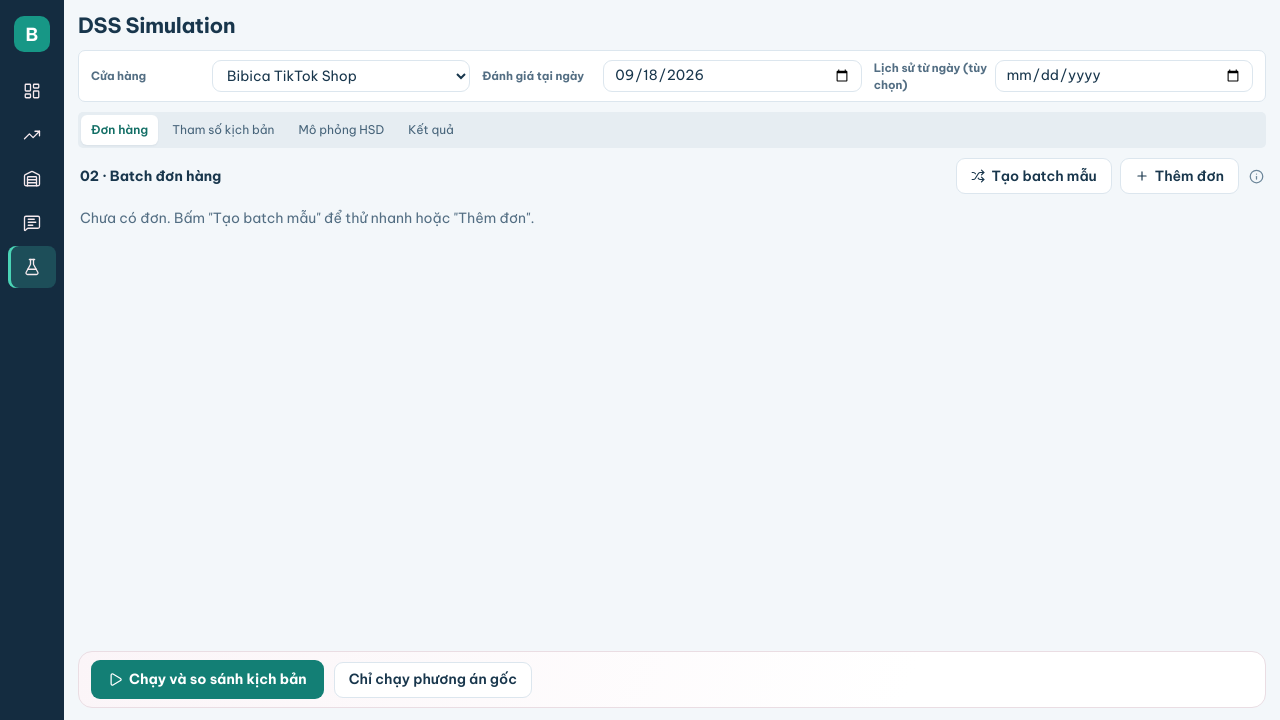
Scenario: các trang dựng được với dữ liệu theo hợp đồng API › DSS: hiển thị detail lỗi 422 do API trả về
The image size is (1280, 720).
Click the button "Tạo batch mẫu". click: (1034, 176)
box: x1=956 y1=158 x2=1112 y2=194
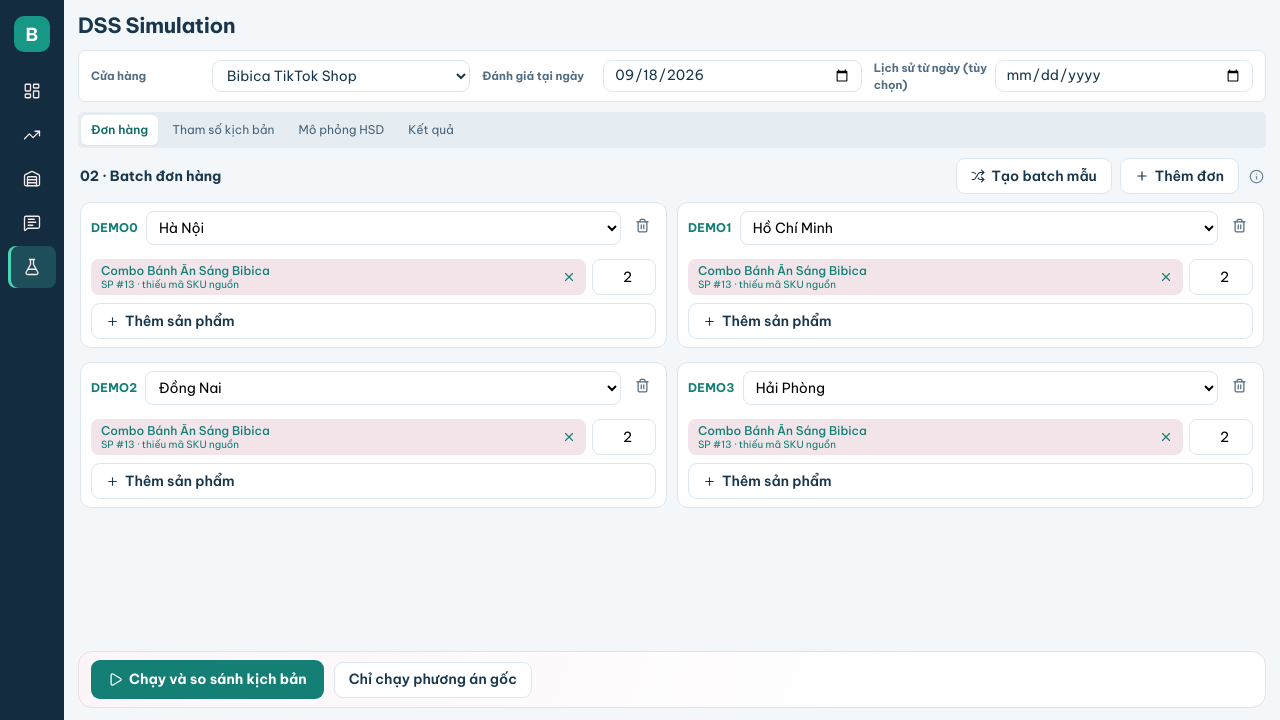
Expected: the text "DEMO0" is shown, x1=91 y1=219 x2=138 y2=237
Click the button "Chạy và so sánh kịch bản". click: (207, 680)
box: x1=91 y1=660 x2=324 y2=699
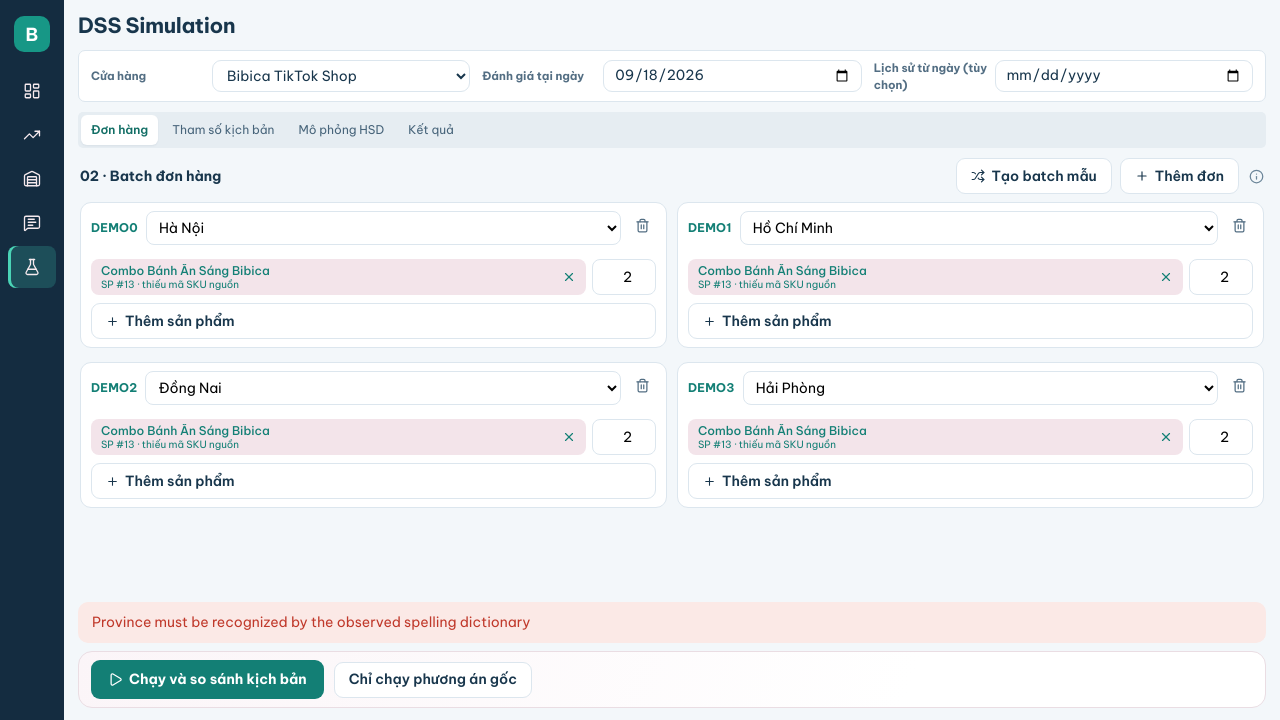
Expected: the text "Province must be recognized" is shown, x1=92 y1=613 x2=530 y2=631
